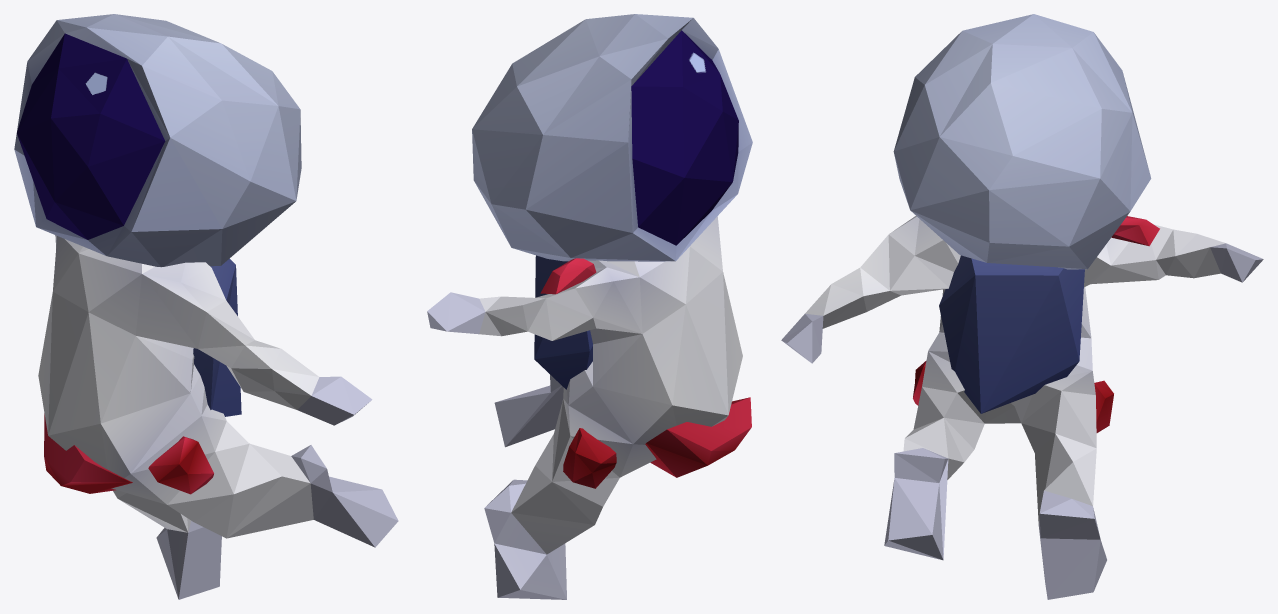
The model's file is astronaut4.fbx.
3 renders of one model, left to right at view 1: azimuth 30°, elevation 25°; view 2: azimuth 150°, elevation 25°; view 3: azimuth 270°, elevation 25°, orthographic. The views are drawn at different scales.
Visible parts, largest first — view 1: Cube.012; view 2: Cube.012; view 3: Cube.012.
Boxes of the visible parts, x1,y1,x2,y2 form: Cube.012: (14, 14, 398, 599); Cube.012: (427, 14, 752, 599); Cube.012: (781, 14, 1263, 599).
Size of the model in its own units: 30.54 by 60.65 by 50.34.
